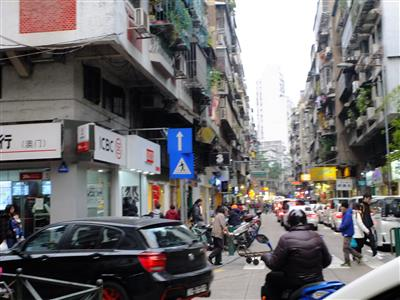oneway: (164, 125, 193, 153)
pedestrianCrossing: (166, 150, 196, 180)
